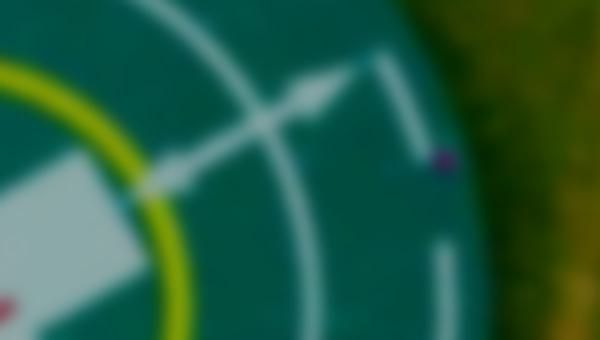Apron: (1, 56, 205, 340)
